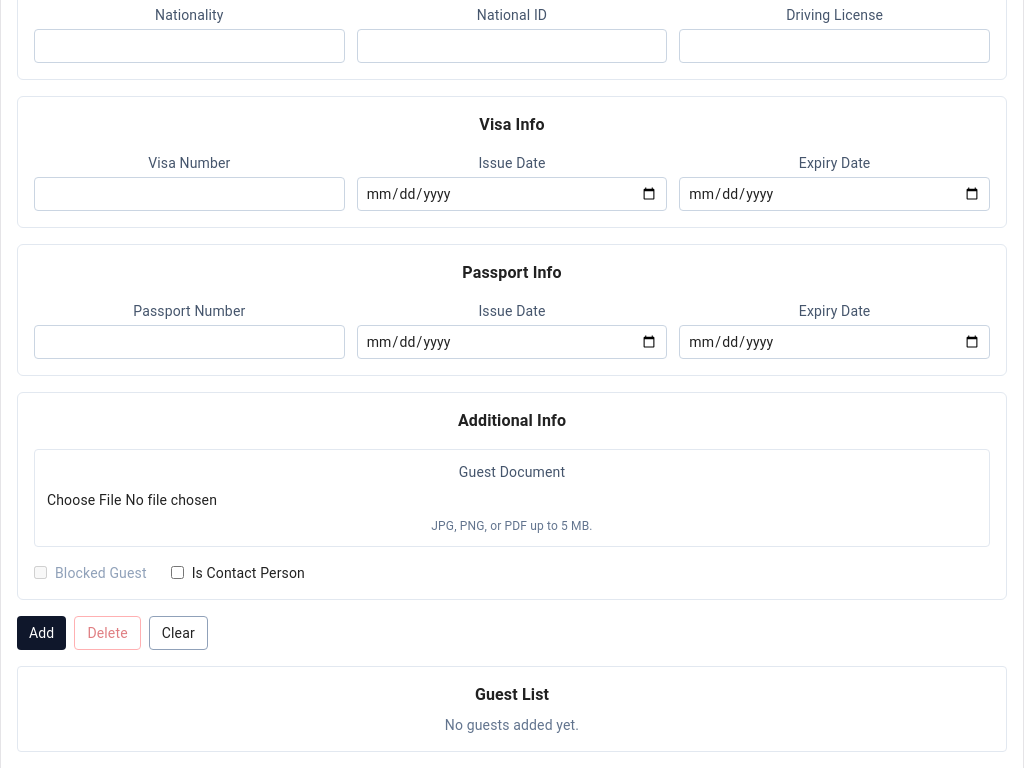
Test: GuestDetailsTab › BR-GD-002: clicking Add with empty draft surfaces a validation error and does not add to list
The image size is (1024, 768).
(page scrolled)
Step 1. Click the button with test id "guest-add" → (42, 633), box top-left (17, 616), bottom-right (66, 650)
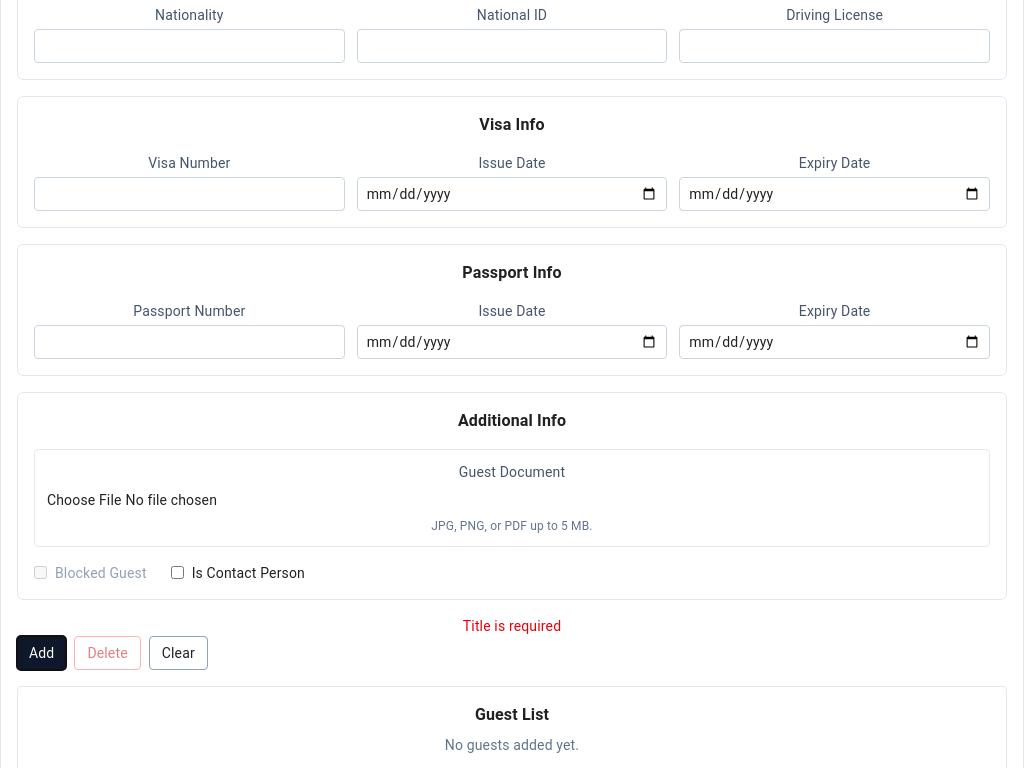
Check: the text "Title is required" is shown, box top-left (463, 618), bottom-right (561, 634)
